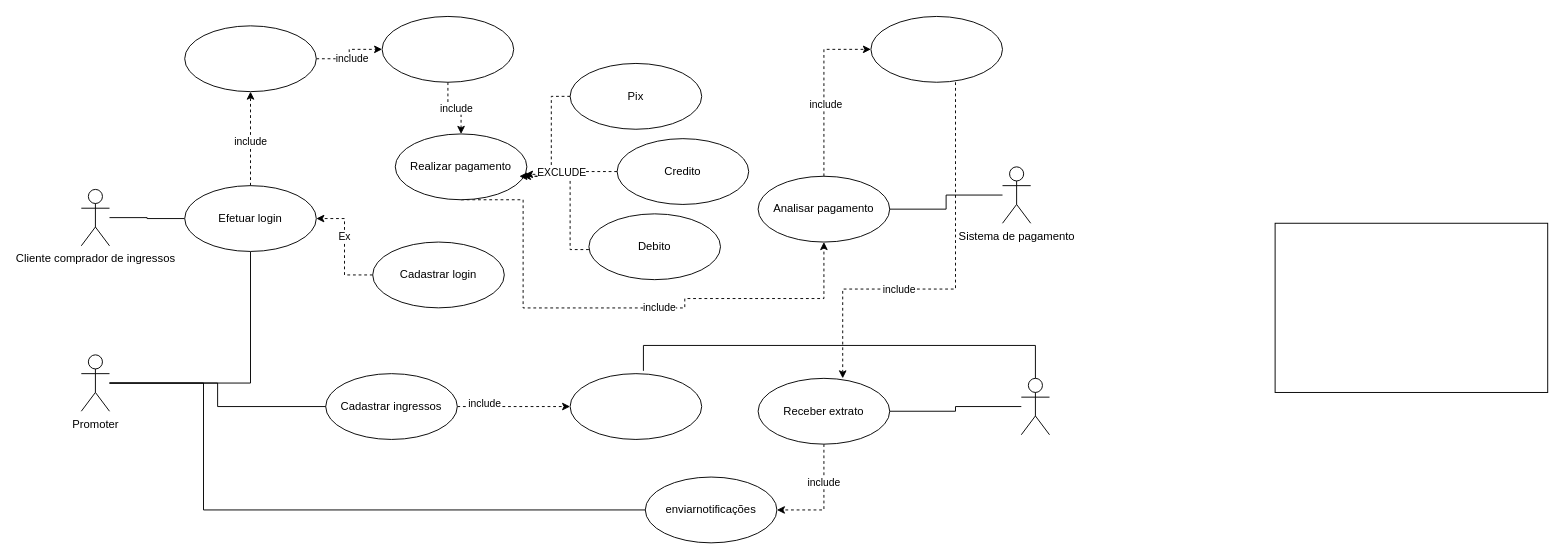
Image size: 1564x559. Some labels were removed from this diagram. Each missing label, with the centre of its shape:
ALUNOS: GABRYEL COROLO CRISTOPHER MALTACA: point 1411,307
Confirmar compra: point 447,49
enviar extrato: point 936,49
selecionar ingressos: point 250,58
Site de ingressos: point 1035,406
Validar ingressos: point 635,406
